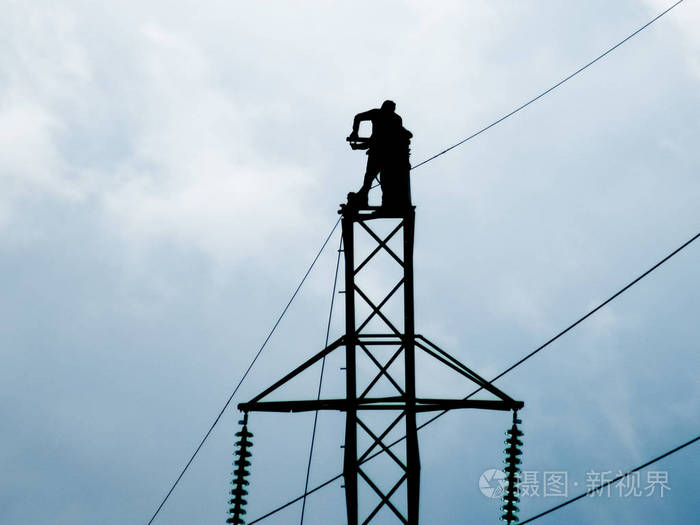insulator: (224, 431, 256, 525), (500, 426, 526, 523)
